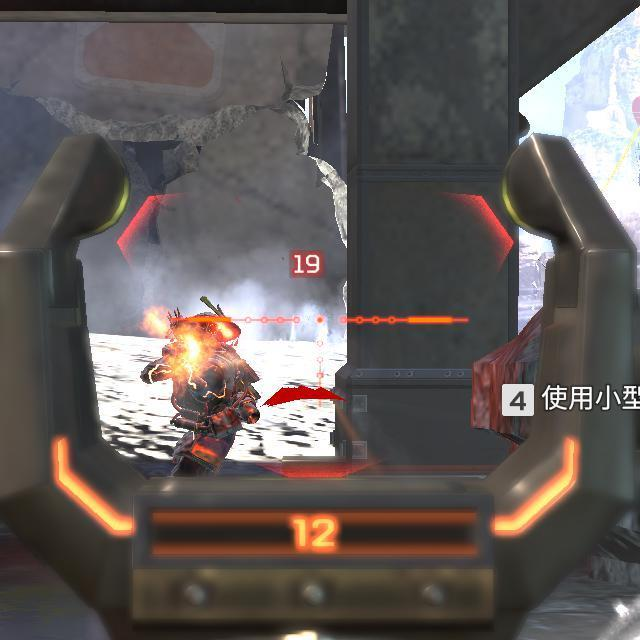avatar: (137, 307, 264, 480)
